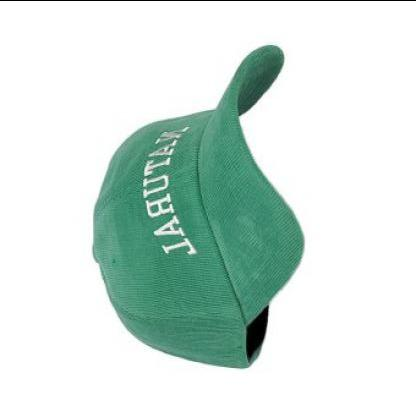cap: (80, 33, 309, 376)
